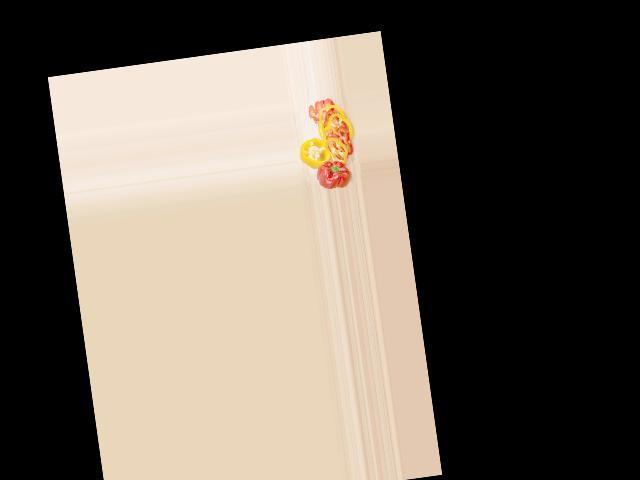bell_pepper: (296, 134, 331, 169)
